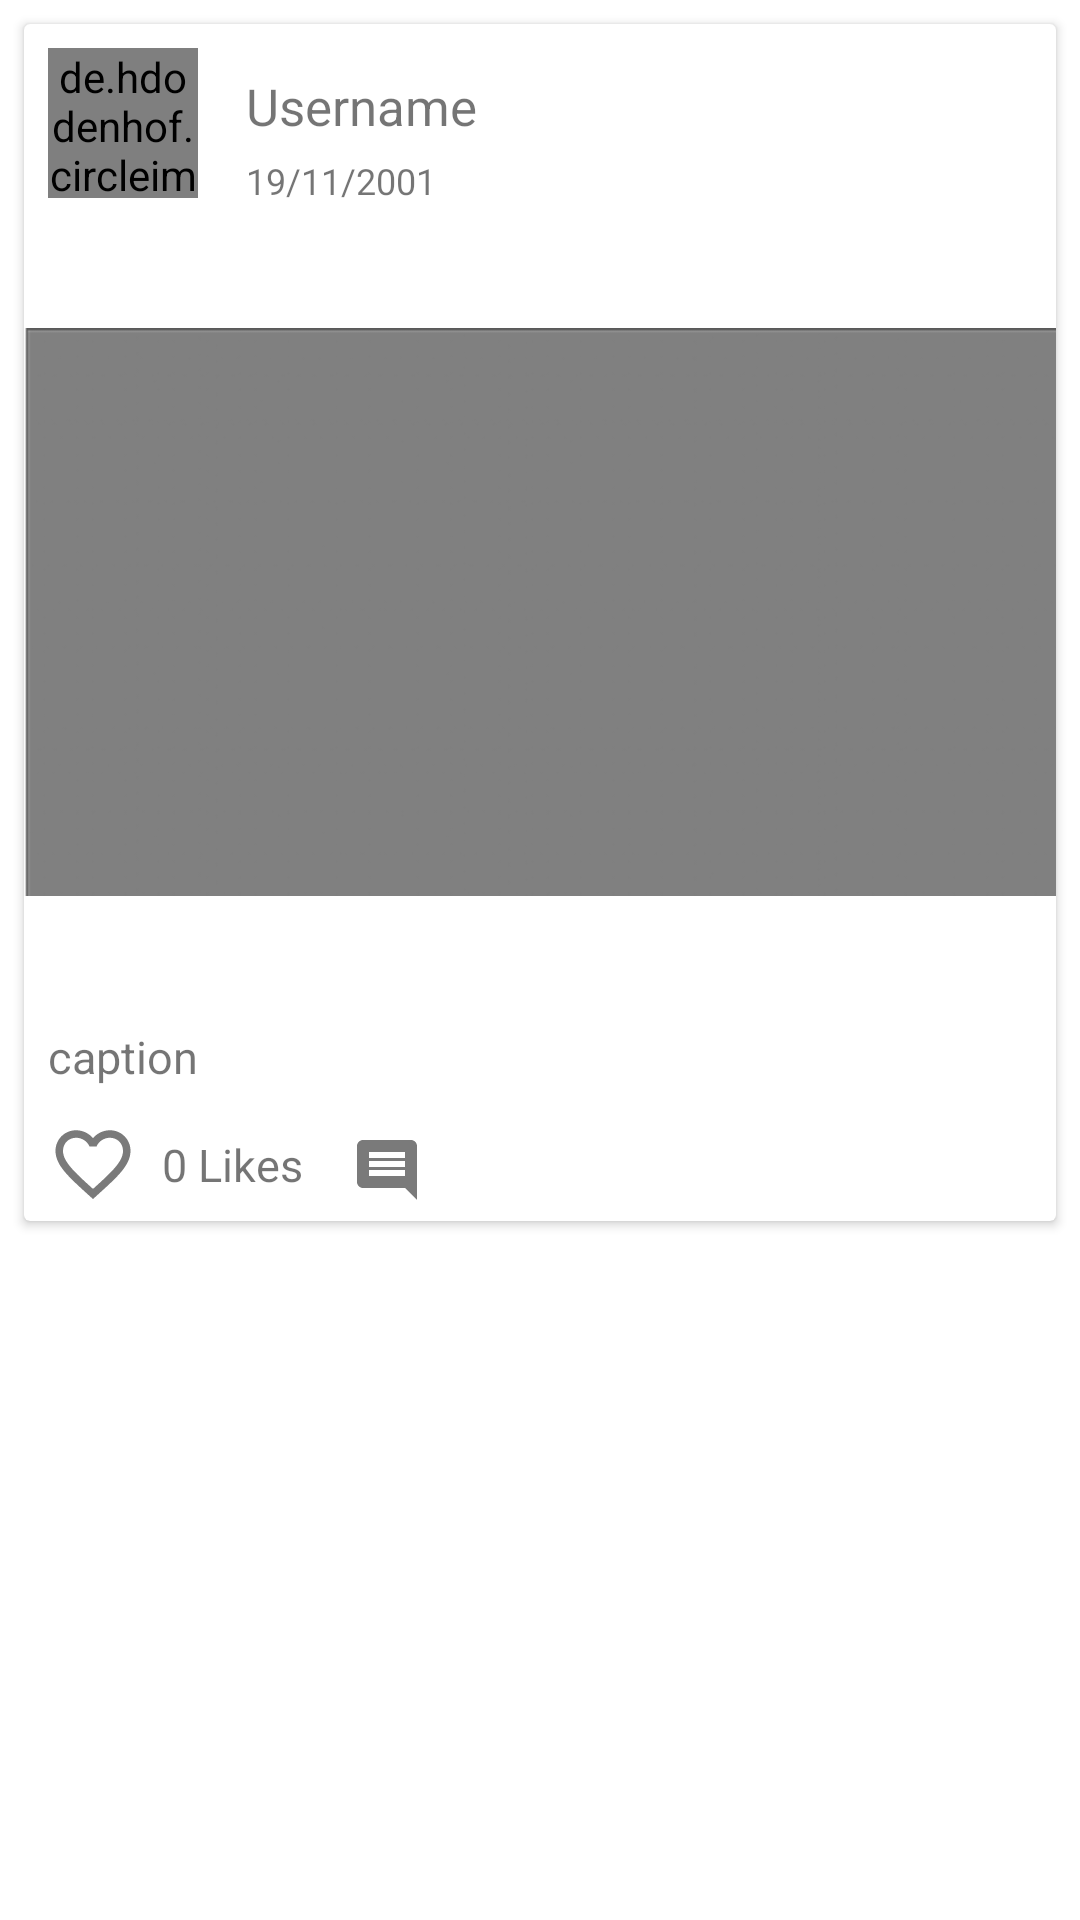

Locate icon controls on the screen. Image size 1080*1920, boxes as (x1, y1, x2, y2).
before liked: (55, 1130, 131, 1199)
comment: (357, 1140, 417, 1200)
